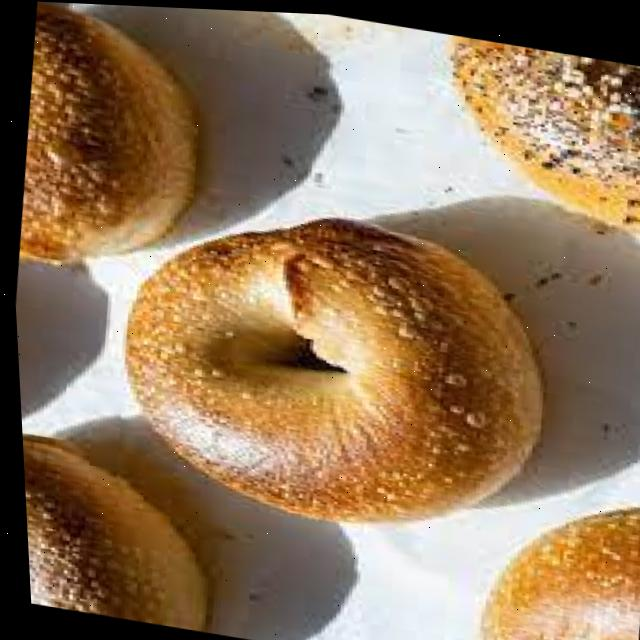Bagel: (121, 214, 537, 517), (20, 5, 195, 261), (452, 30, 640, 221), (18, 438, 199, 630), (474, 503, 640, 640)
